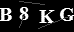8: (18, 6, 30, 20)
B: (1, 7, 12, 22)
G: (59, 7, 74, 21)
K: (37, 9, 55, 24)
